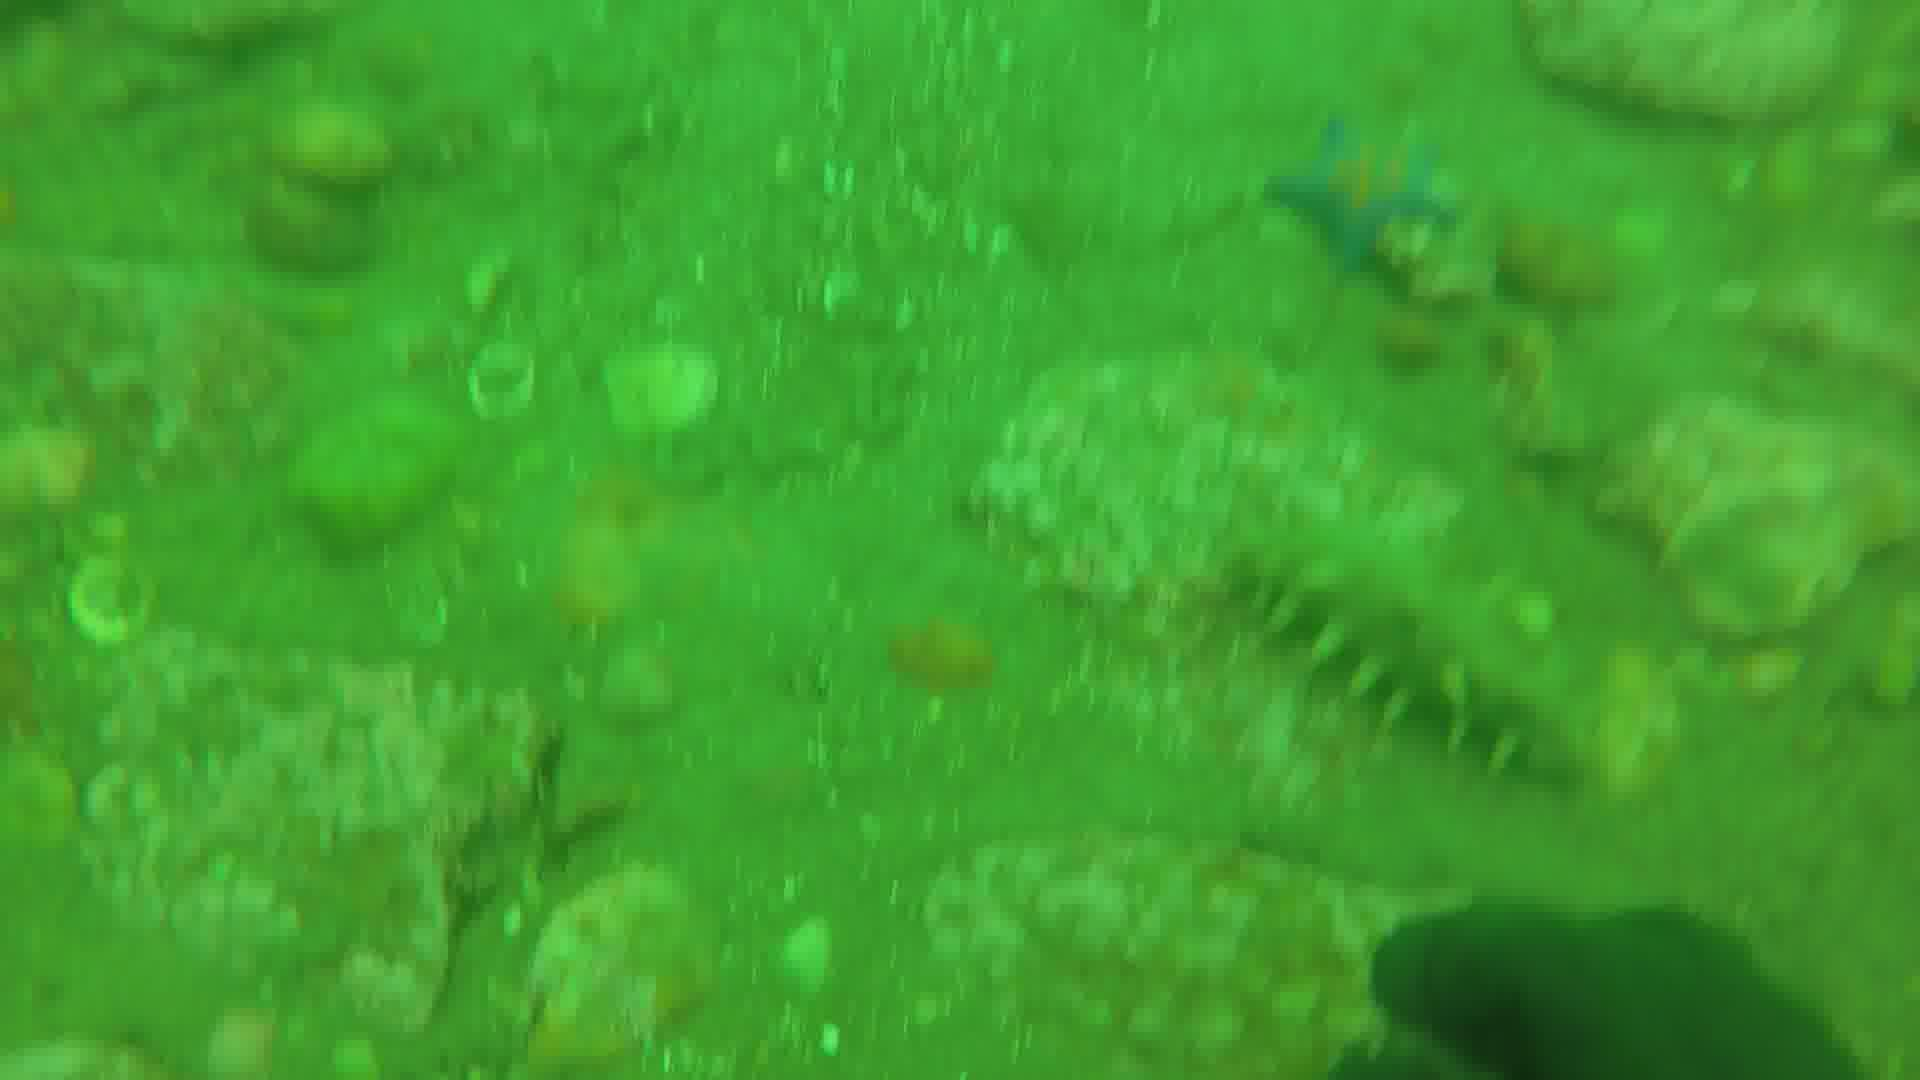holothurian: (1238, 513, 1601, 786)
starfish: (1273, 116, 1453, 269)
